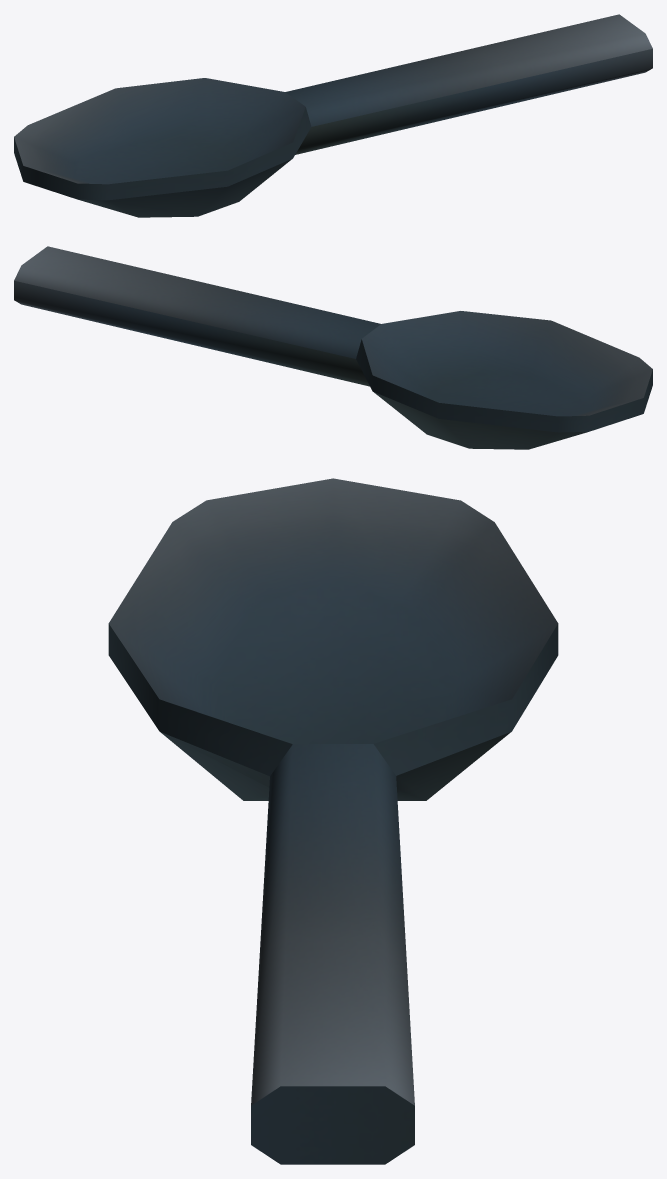
Rendered from spoon_cuttlery_metal.fbx.
3 renders of one model, top to bottom at view 1: azimuth 30°, elevation 25°; view 2: azimuth 150°, elevation 25°; view 3: azimuth 270°, elevation 25°, orthographic. The views are drawn at different scales.
Parts seen in each view (by area): view 1: spoon_cuttlery_metal; view 2: spoon_cuttlery_metal; view 3: spoon_cuttlery_metal.
Boxes of the visible parts, bbox=[...] form: spoon_cuttlery_metal: bbox=[14, 14, 652, 217]; spoon_cuttlery_metal: bbox=[14, 246, 652, 449]; spoon_cuttlery_metal: bbox=[108, 478, 558, 1164].
Bounding box in the file's own units: 36.83 × 3.88 × 11.77.
